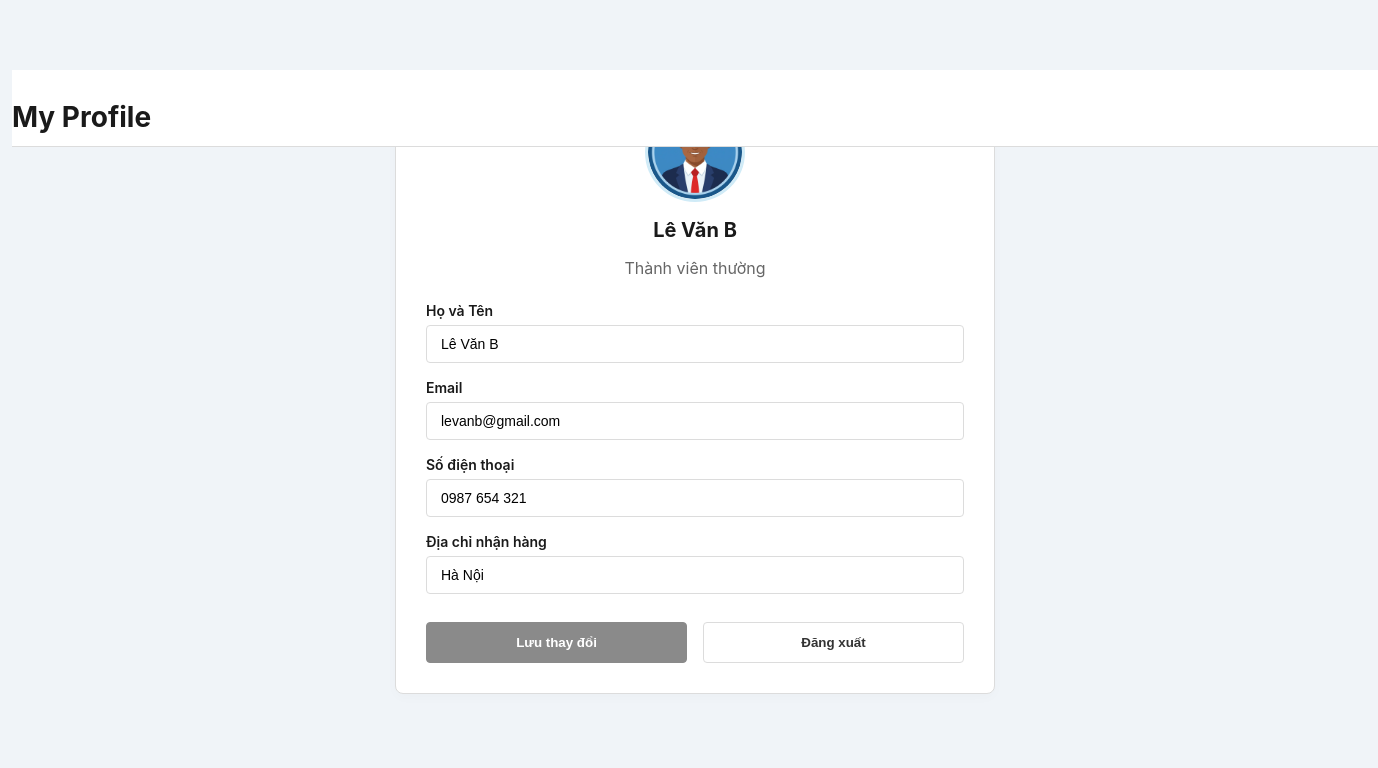
Profile Component › shows error toast for invalid email
Replace the text in the field labelled "Email" with "invalid-email": (695, 421) top-left (426, 402), bottom-right (964, 440)
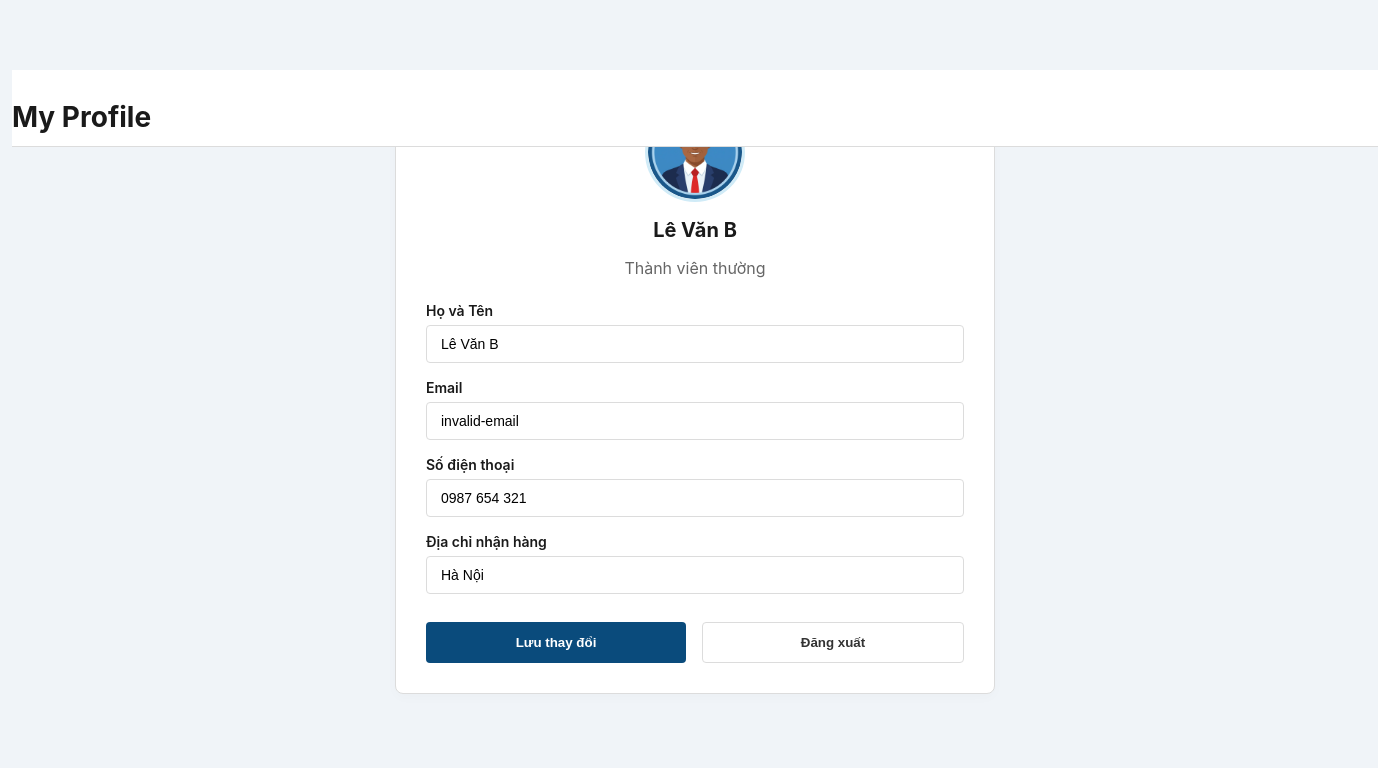
Click the button "Lưu thay đổi": click(556, 642) top-left (426, 622), bottom-right (686, 663)
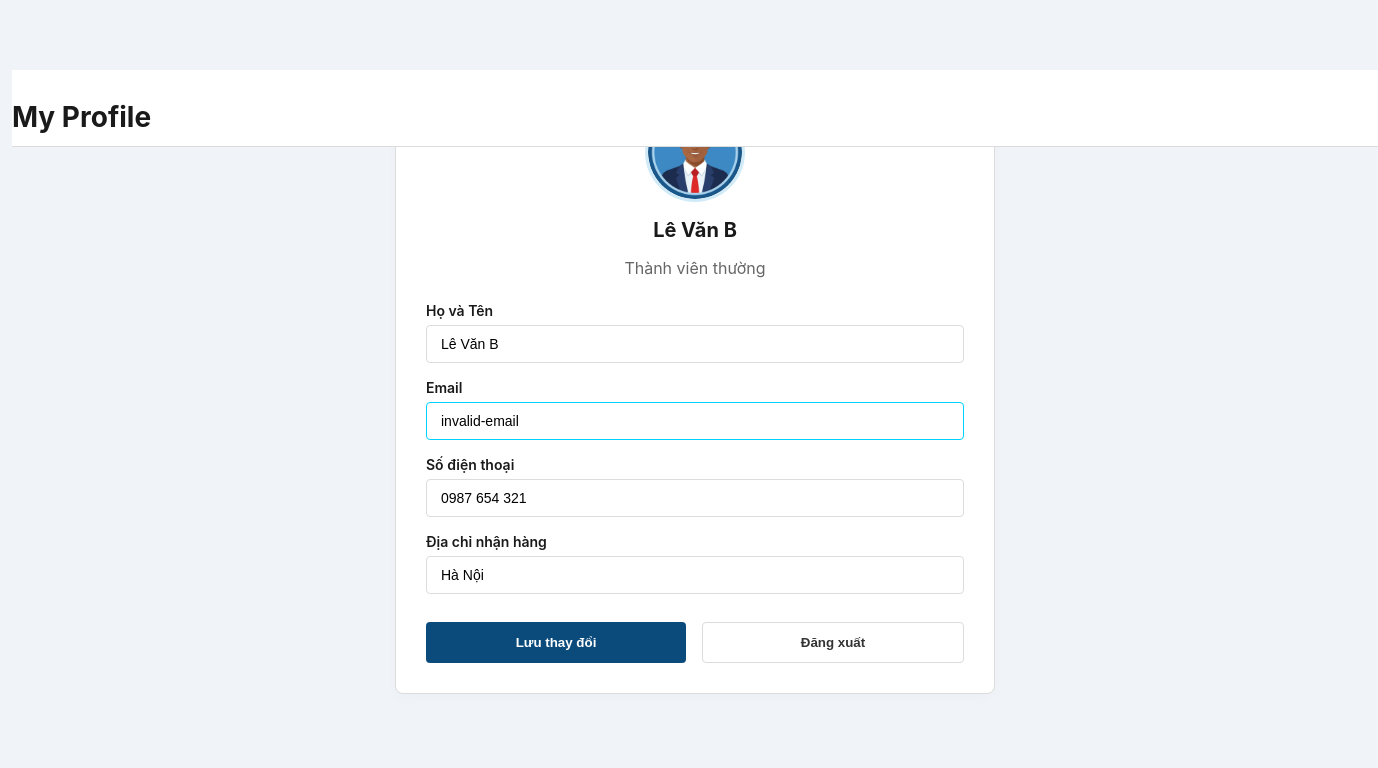
Note: Actually, let's bypass the form validation by triggering the form's submit directly.
Submit the form "Lưu thay đổi", box top-left (426, 302), bottom-right (964, 663)
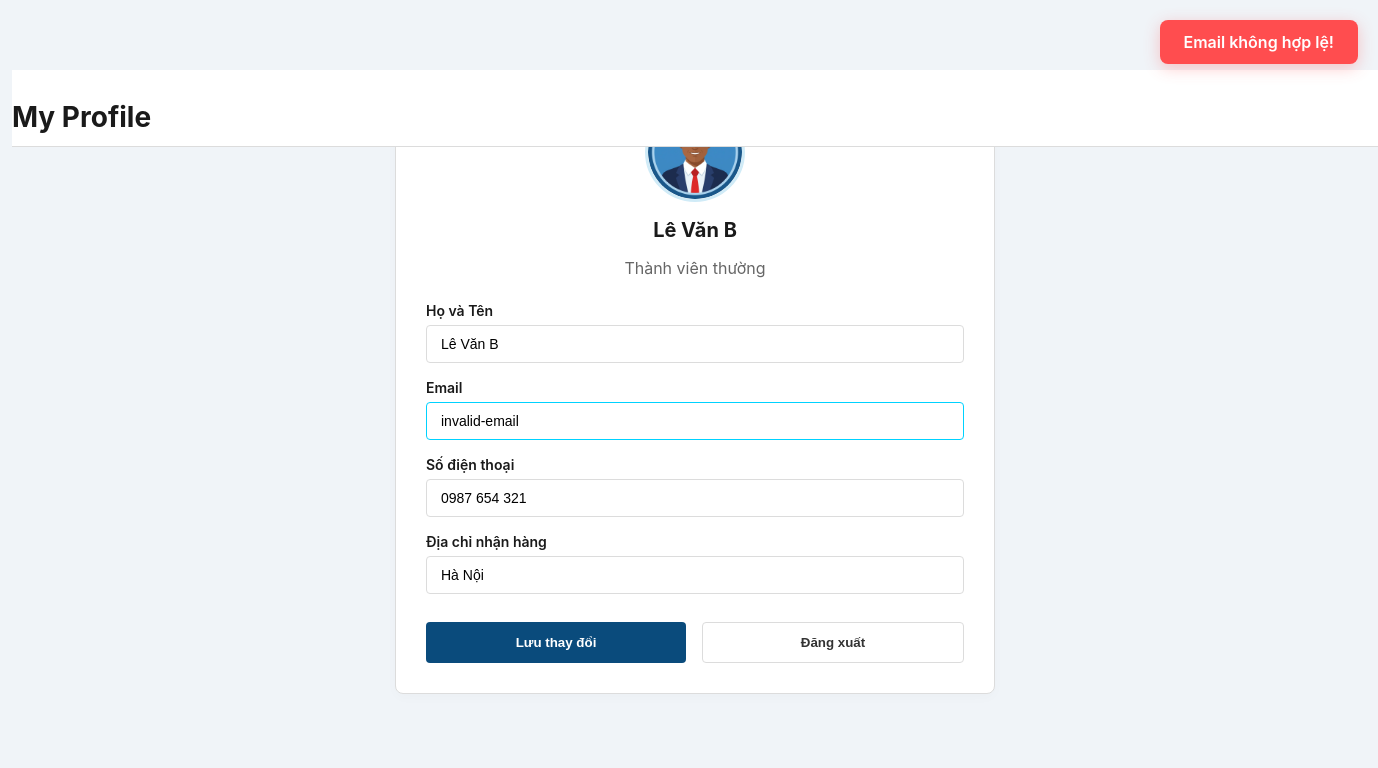
Result: the text "Email không hợp lệ!" is shown at top-left (1160, 20), bottom-right (1358, 64)
